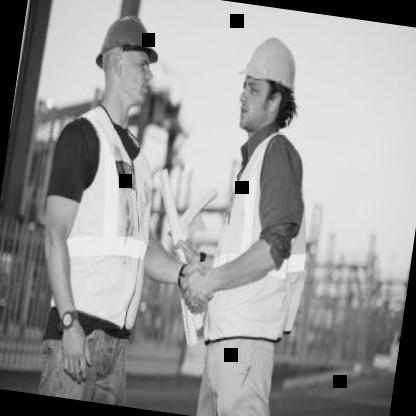helmet: (78, 0, 177, 126), (227, 25, 305, 139)
